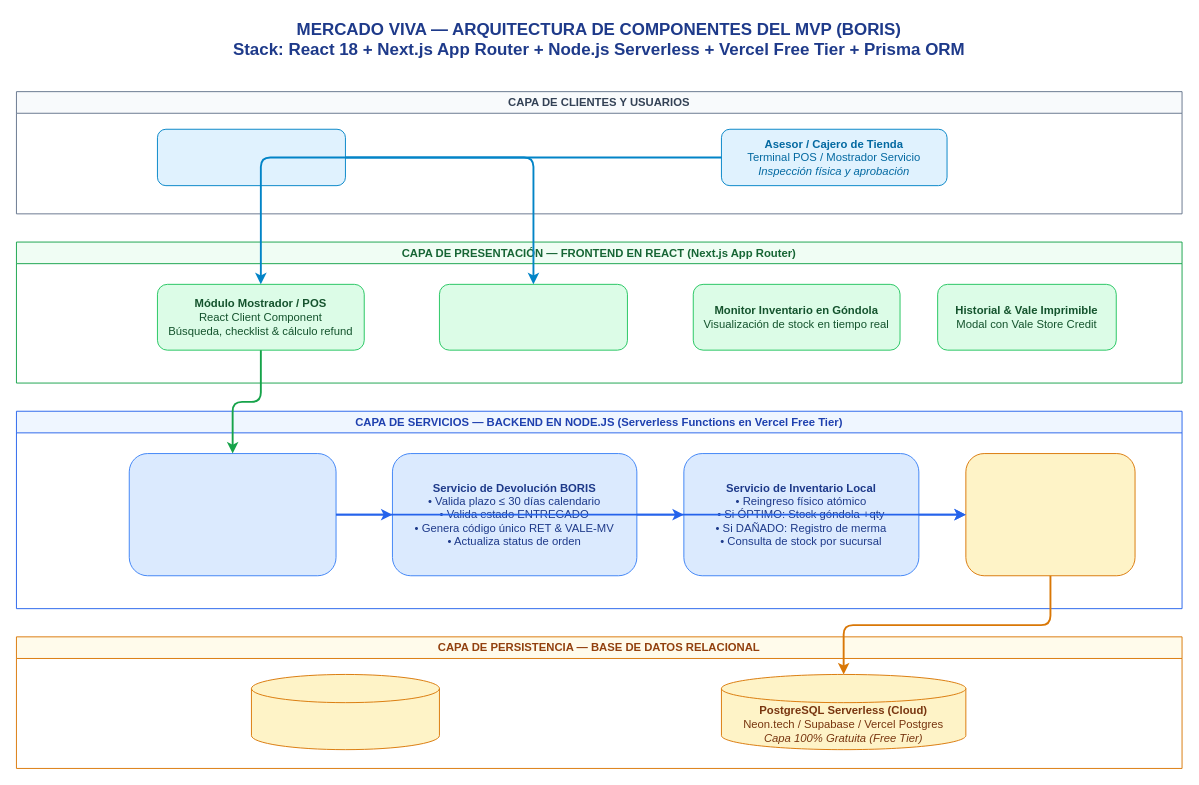
This 1199x785 diagram has some shape labels left out. The shapes that lost their labels are listed below. From the top down, each one's centre as x and y in pixels, then its label:
the point at 251,157: Cliente Digital Comprador Web / Móvil Lleva producto + Código QR
the point at 533,316: Portal Autogestión Cliente Consulta de compras & políticas
the point at 232,514: Next.js API Routes Gateway Route Handlers Serverless Validación Zod DTO + CORS
the point at 1050,514: Prisma ORM 5.x Transacciones ACID Single-connection pool Type-Safe Queries
the point at 345,712: SQLite (Local) Zero config, rápida ejecución dev.db con semillero inicial
